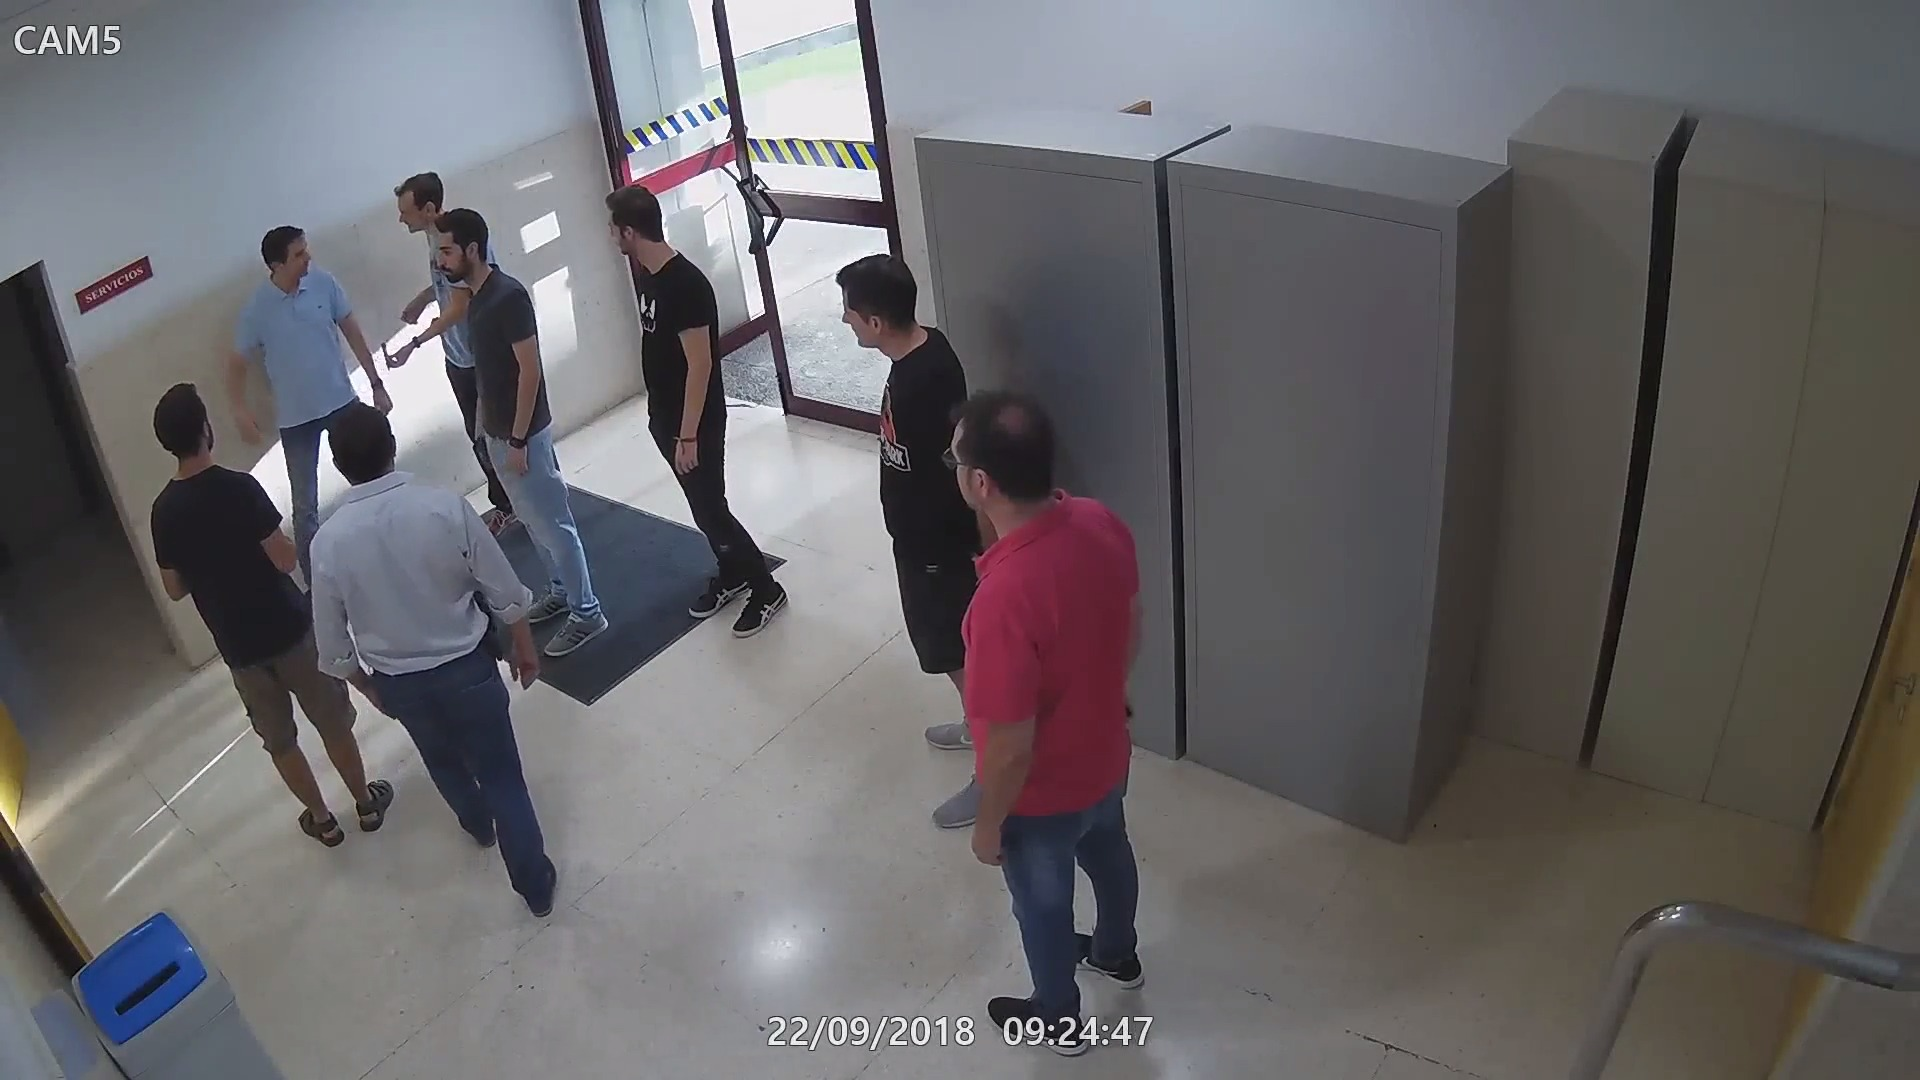Handgun: (472, 585, 505, 665), (465, 429, 498, 477)
Knife: (378, 338, 425, 371)
